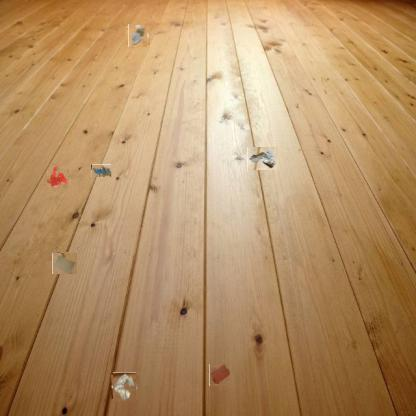dirty: (247, 148, 278, 172), (111, 374, 138, 400), (52, 252, 77, 274), (127, 25, 149, 46), (91, 164, 111, 177)
liquid: (209, 365, 230, 386), (48, 168, 68, 188)
